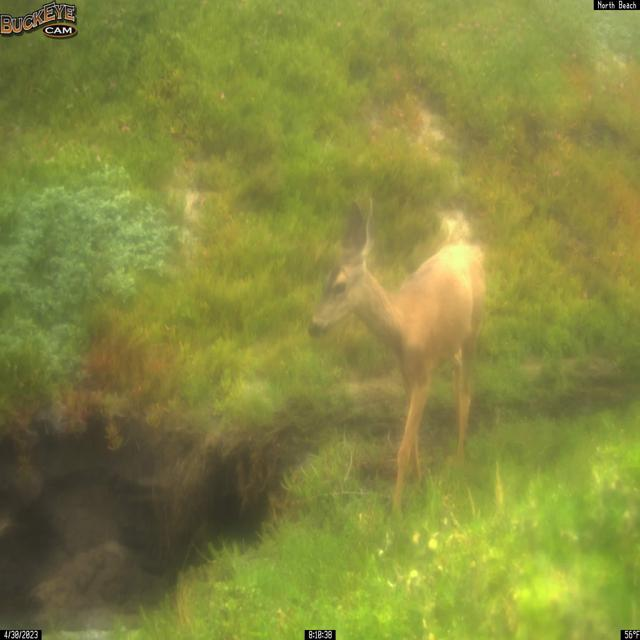deer: (307, 196, 488, 518)
